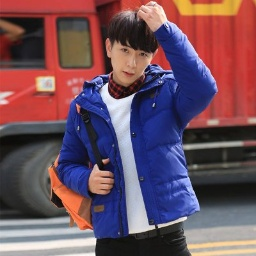face: (105, 9, 159, 86)
